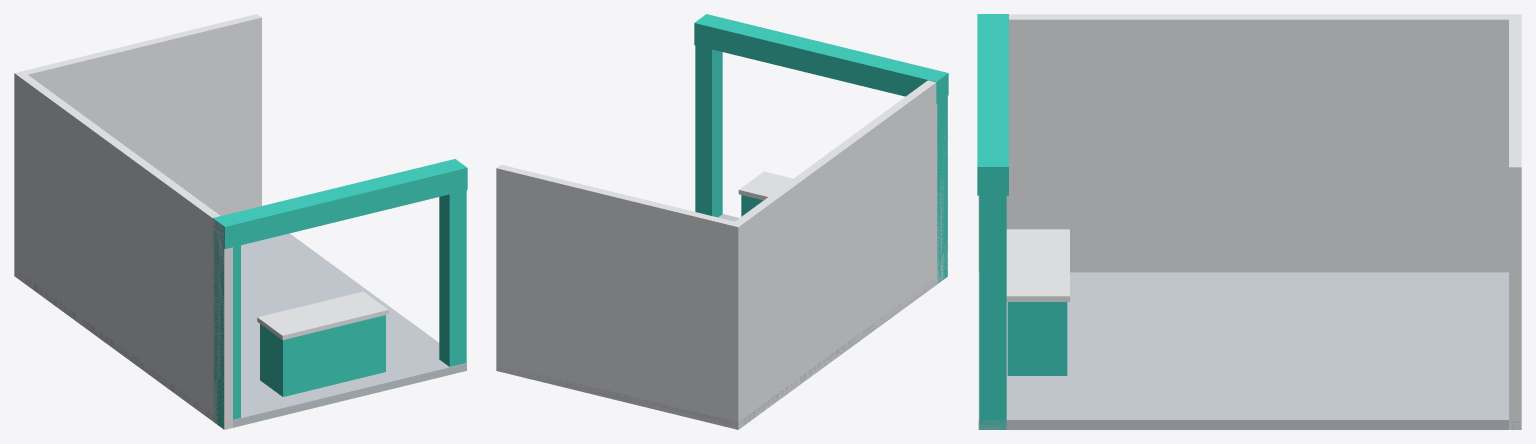
3 views of the same model, side by side, from view 1: azimuth 30°, elevation 25°; view 2: azimuth 150°, elevation 25°; view 3: azimuth 270°, elevation 25° (orthographic). The views are drawn at different scales.
Visible parts, largest first — view 1: Exhibition Booth Concept; view 2: Exhibition Booth Concept; view 3: Exhibition Booth Concept.
Part boxes in pixels (bbox=[...]): Exhibition Booth Concept: bbox=[14, 14, 467, 429]; Exhibition Booth Concept: bbox=[496, 14, 948, 429]; Exhibition Booth Concept: bbox=[977, 14, 1521, 429].
Bounding box in the file's own units: 4 × 3.2 × 6.02.
